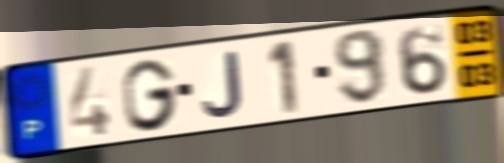1: (266, 37, 302, 117)
4: (68, 63, 114, 140)
6: (395, 22, 450, 97)
9: (332, 27, 389, 108)
G: (120, 56, 180, 134)
J: (199, 49, 246, 121)
